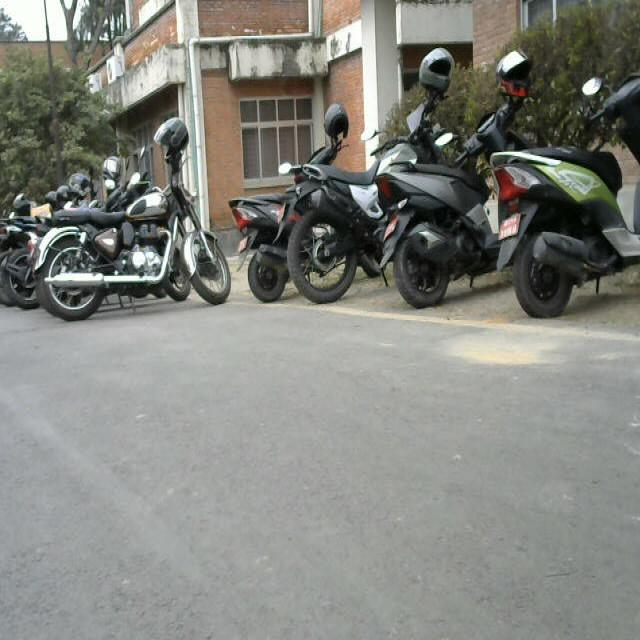Bike: (1, 121, 640, 319), (39, 139, 280, 315), (369, 63, 524, 305)
Road: (2, 314, 640, 634), (486, 132, 640, 314)
